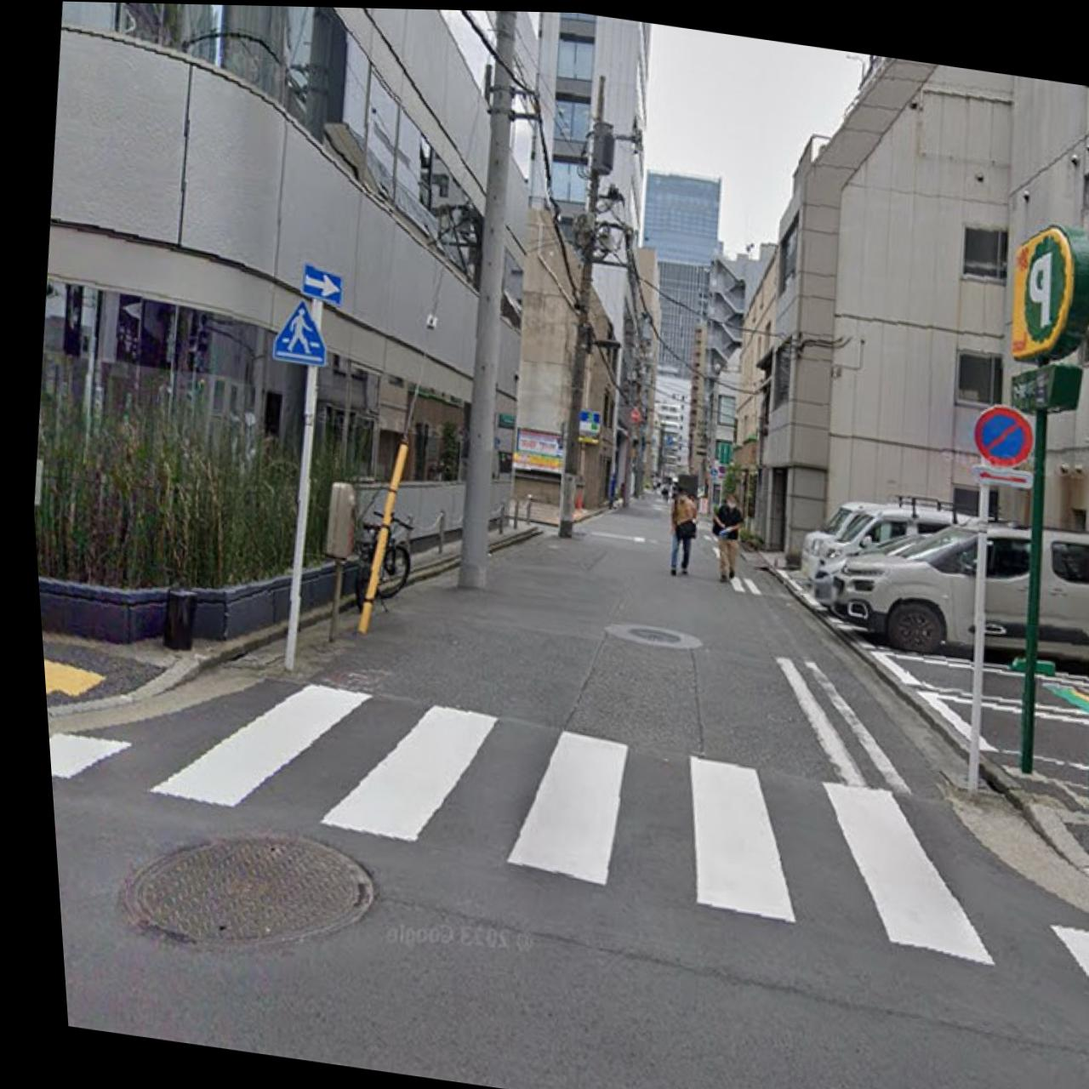cone: (176, 195, 479, 493)
stop_sign: (964, 395, 1038, 474)
